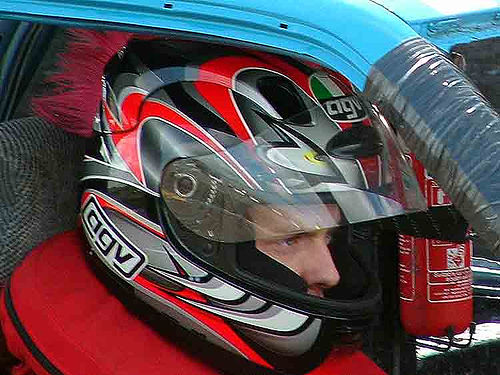helmet: (102, 40, 405, 347)
